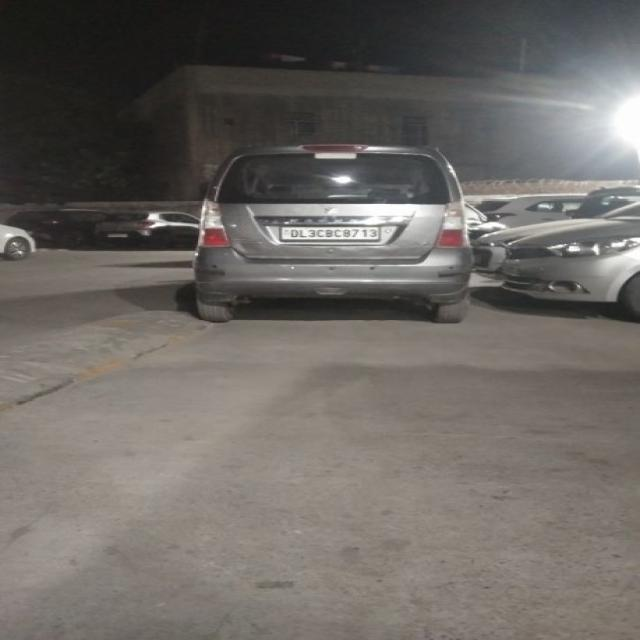license_plate: (276, 224, 381, 242)
